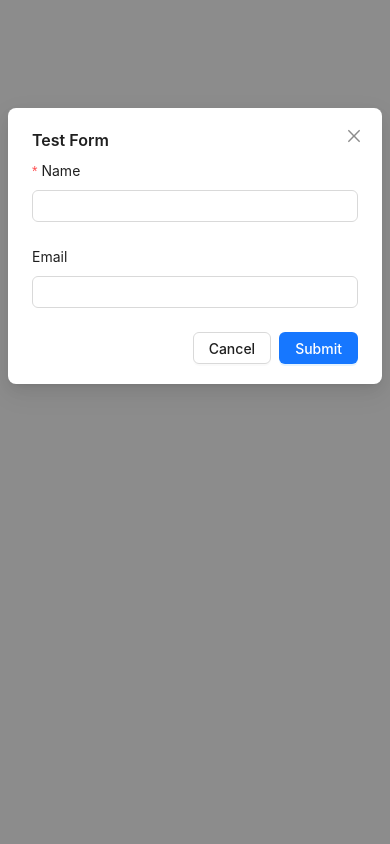
Test: FormModal › validates form before submitting
expect the text "Test Form" is shown: met, box x1=32 y1=130 x2=109 y2=150
# Don't fill required field
Click the button "Submit". click: (319, 348)
box: x1=279 y1=332 x2=358 y2=364
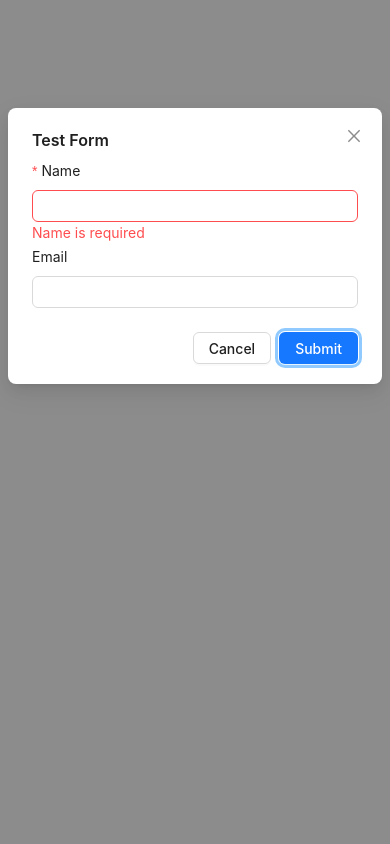
expect the text "Name is required" is shown: met, box x1=32 y1=224 x2=145 y2=241
